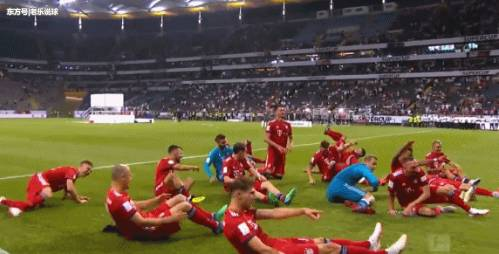10+: (1, 26, 499, 254)
down: (220, 174, 408, 254), (104, 165, 231, 241), (1, 156, 99, 221), (390, 158, 494, 218), (324, 156, 391, 212)
